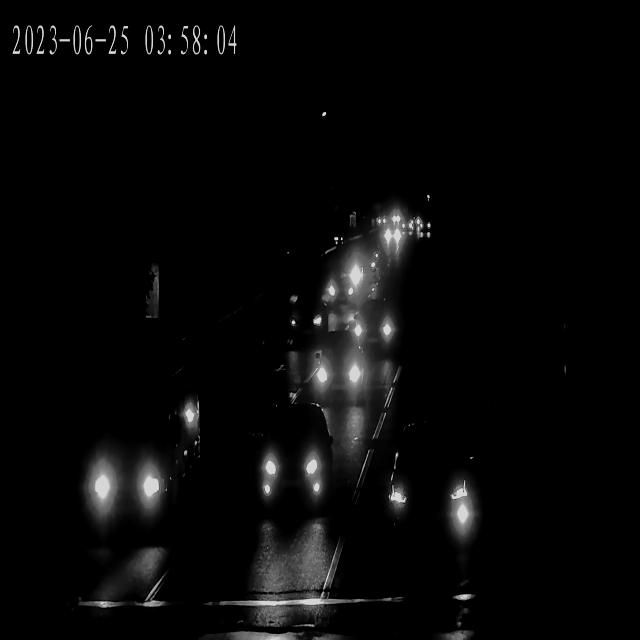Car: (64, 414, 190, 547), (383, 427, 482, 545), (248, 412, 332, 515), (308, 342, 370, 403), (346, 304, 400, 351), (284, 295, 328, 341), (324, 270, 360, 306), (378, 226, 400, 244), (382, 228, 403, 244)
